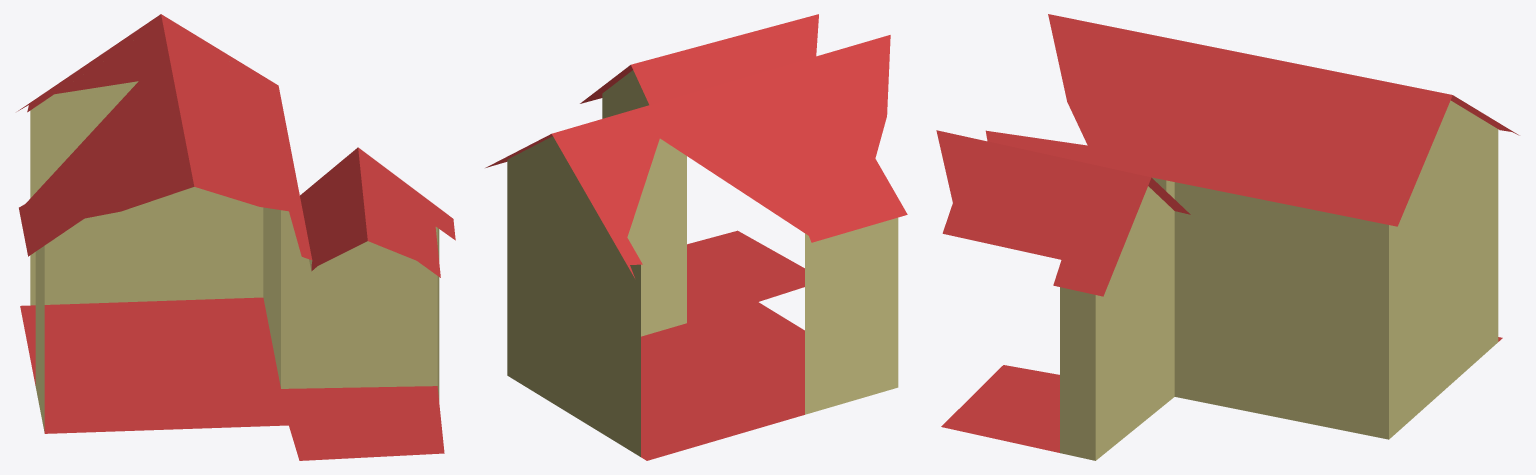
3 renders of one model, left to right at view 1: azimuth 30°, elevation 25°; view 2: azimuth 150°, elevation 25°; view 3: azimuth 270°, elevation 25°, orthographic. The views are drawn at different scales.
Size of the model in its own units: 19.59 by 24.18 by 13.93.
